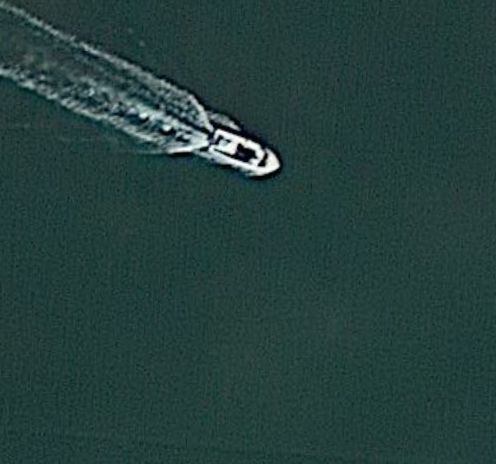boat: (203, 125, 284, 178)
